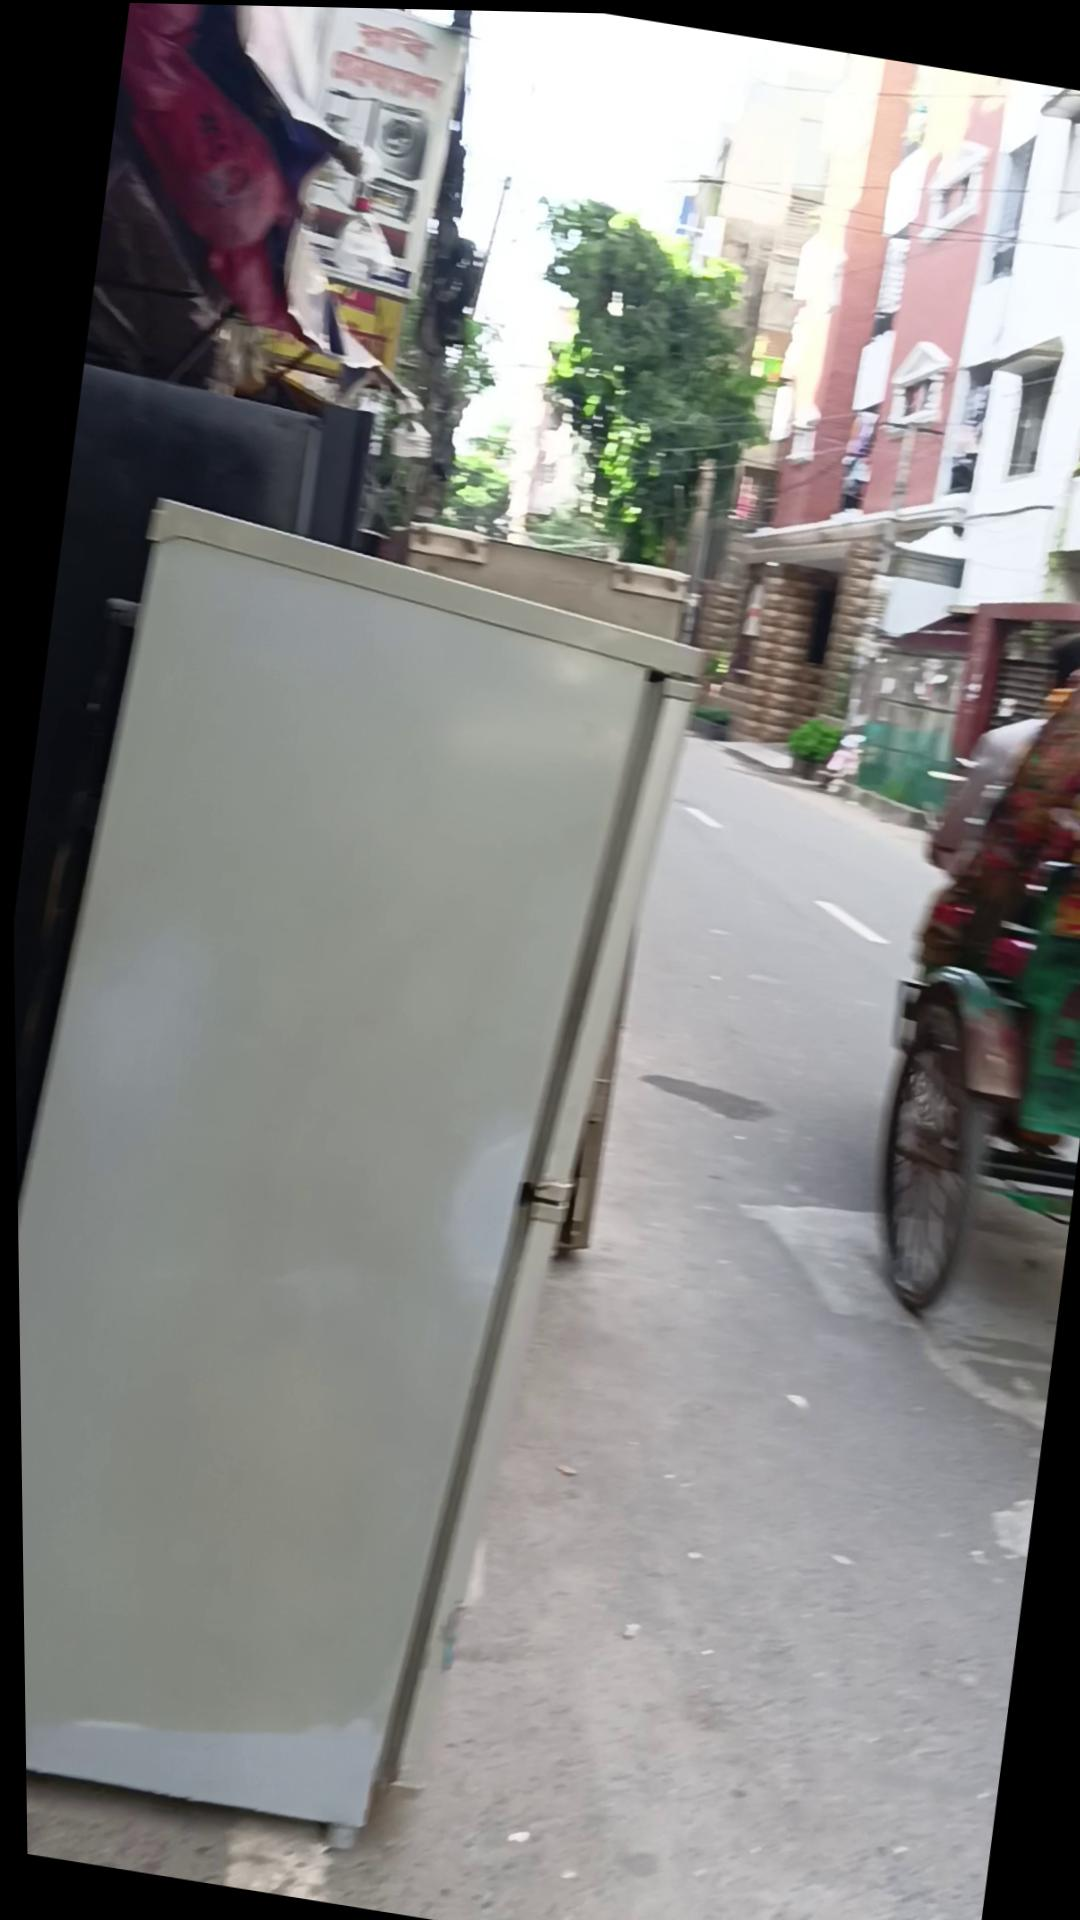Crosswalk: (5, 407, 677, 1920)
Fallen-tree: (778, 707, 841, 779), (685, 699, 730, 738)
Fence: (839, 562, 1080, 1333)
Light-pole: (489, 183, 795, 580)
